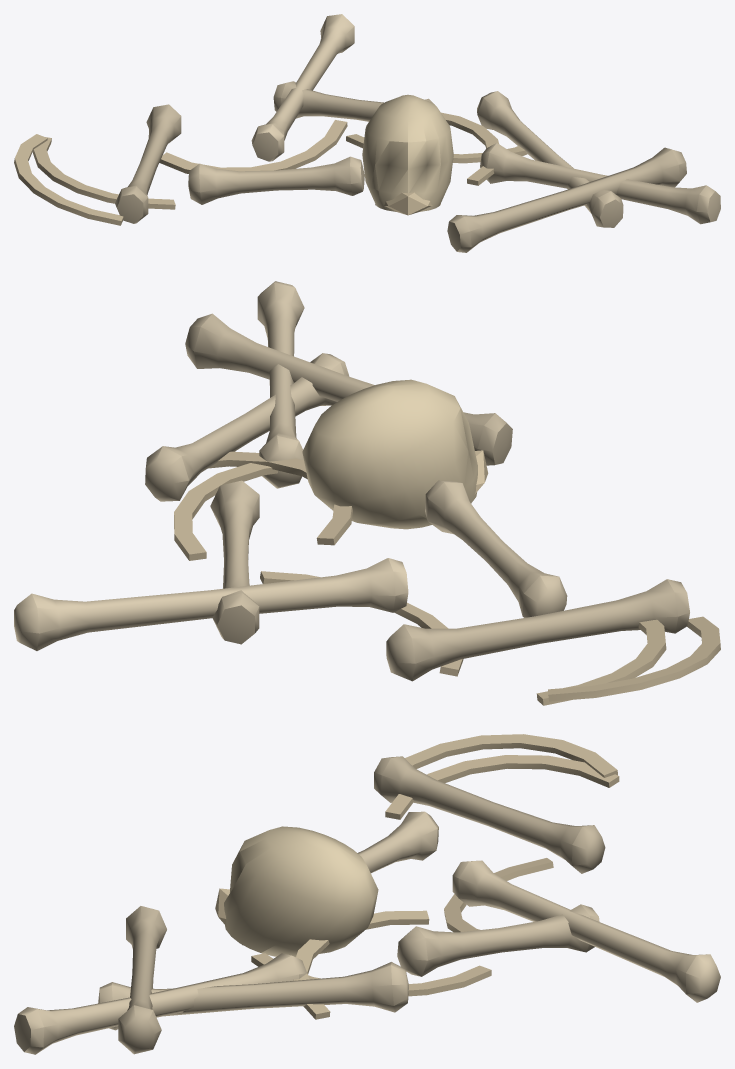
File: bone_pile.glb
3 renders of one model, top to bottom at view 1: azimuth 30°, elevation 25°; view 2: azimuth 150°, elevation 25°; view 3: azimuth 270°, elevation 25°, orthographic. The views are drawn at different scales.
Parts seen in each view (by area): view 1: bone_pile; view 2: bone_pile; view 3: bone_pile.
Boxes of the visible parts, box(x1,y1,x2,y2) form: bone_pile: box(14, 14, 720, 252); bone_pile: box(14, 281, 720, 705); bone_pile: box(14, 734, 720, 1054).
Size of the model in its own units: 0.8998 by 0.1702 by 0.8824.
